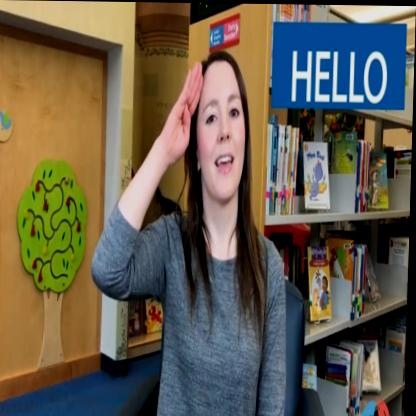Hello: (156, 31, 278, 294)
